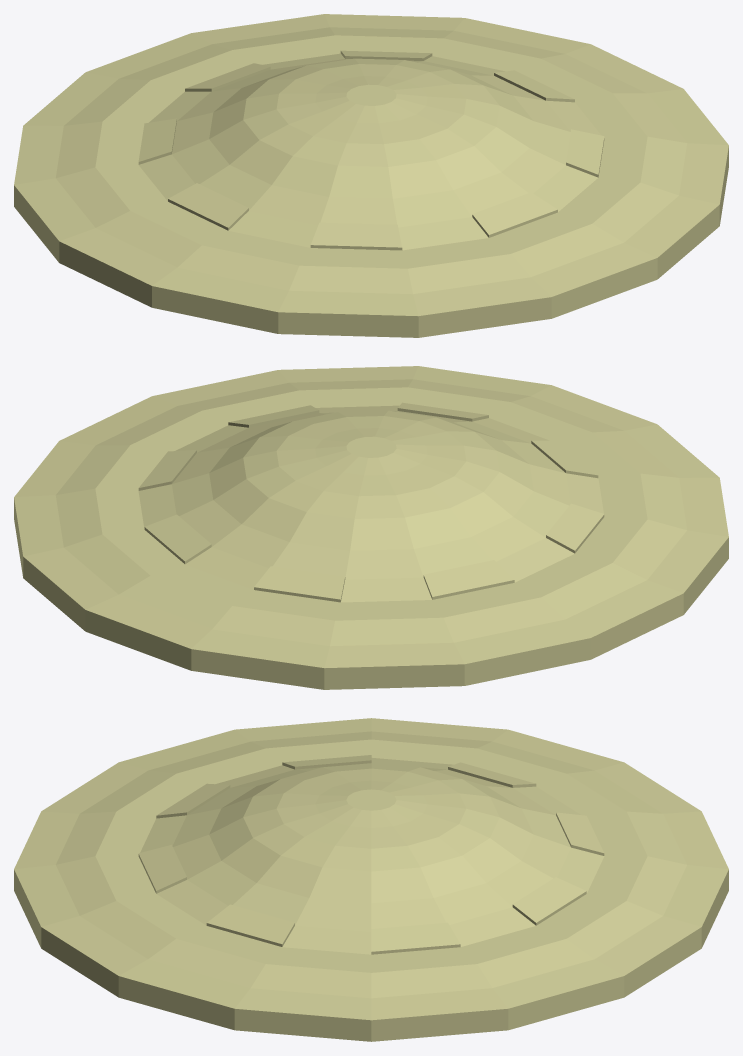
File: invisible.fbx
3 renders of one model, top to bottom at view 1: azimuth 30°, elevation 25°; view 2: azimuth 150°, elevation 25°; view 3: azimuth 270°, elevation 25°, orthographic.
Parts seen in each view (by area): view 1: Invisible; view 2: Invisible; view 3: Invisible.
Part boxes in pixels (box(x1,y1,x2,y2)): Invisible: box(14, 14, 728, 337); Invisible: box(14, 366, 728, 689); Invisible: box(14, 718, 728, 1041).
Size of the model in its own units: 150 by 23.33 by 150.
